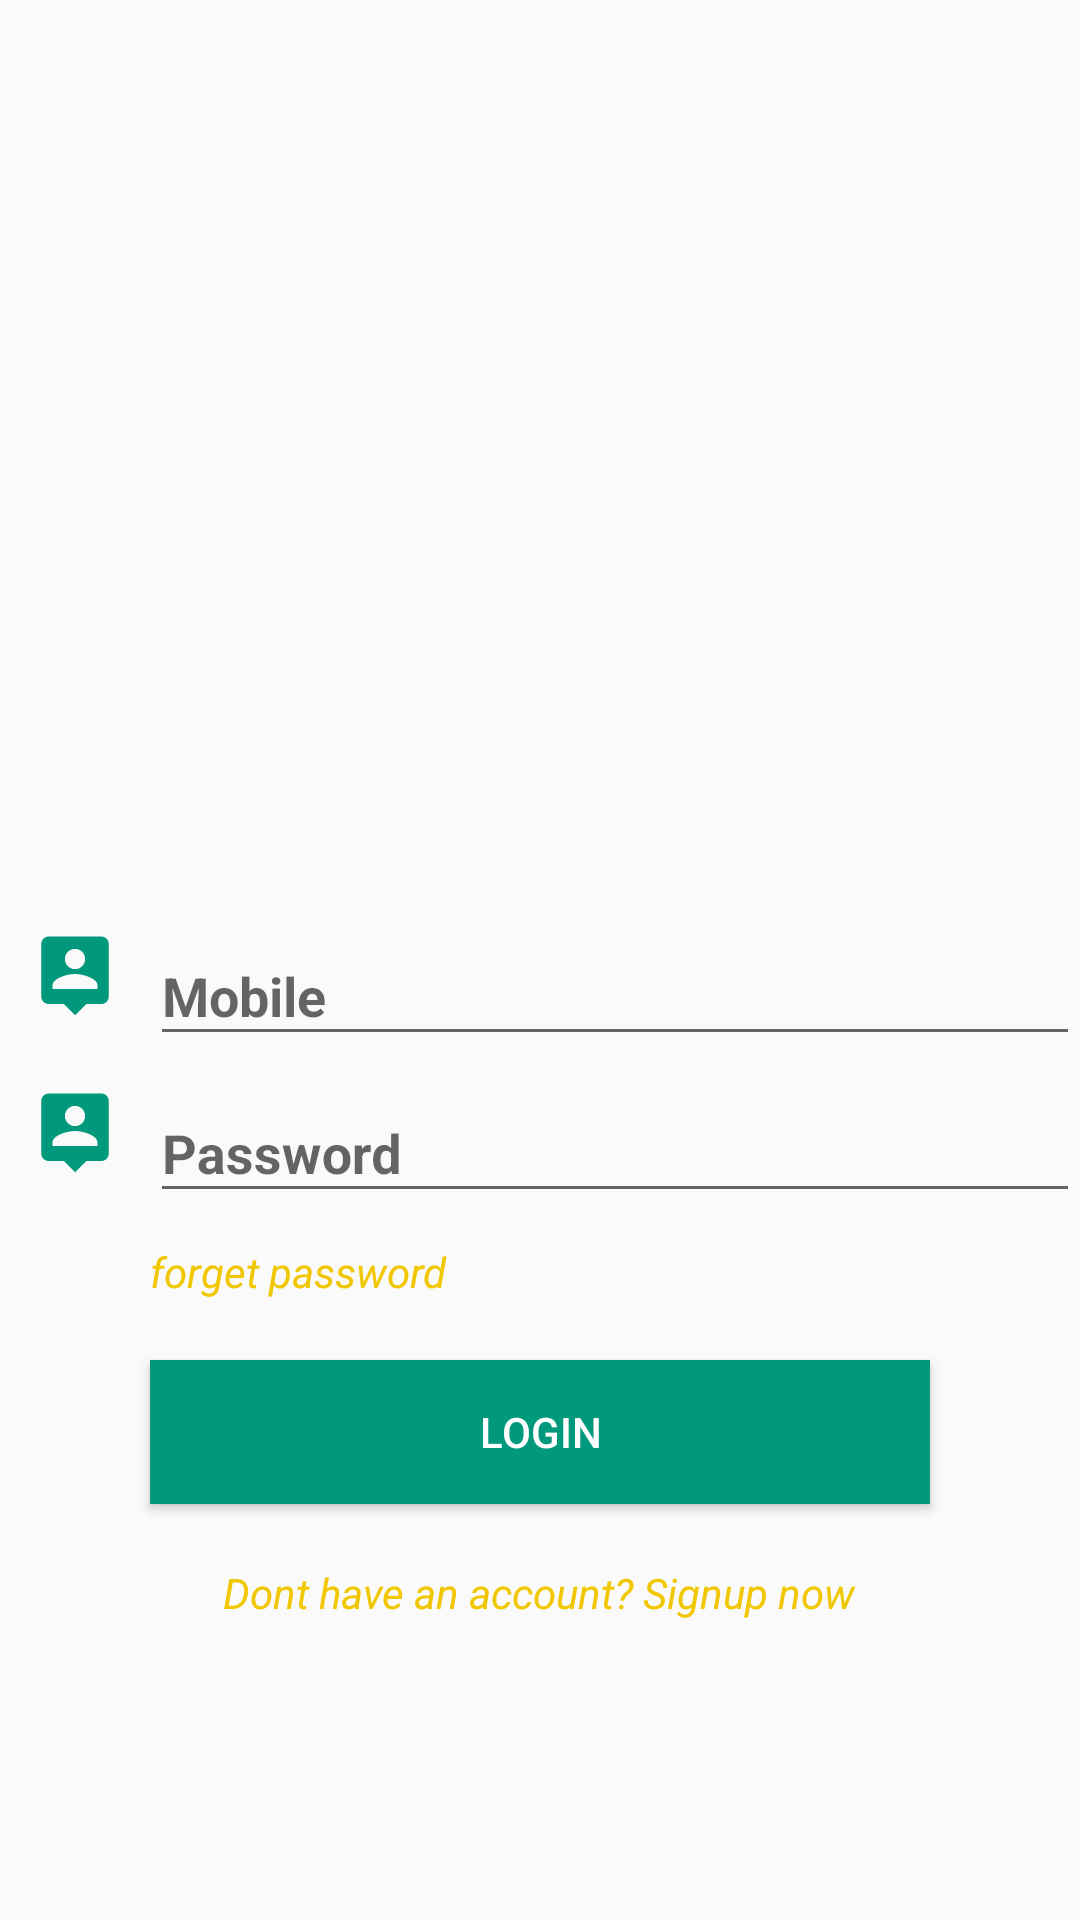

Where to tap for icons on this 1080 × 1920 app screen, as point (x, y):
person: point (75, 975), point (75, 1132)
